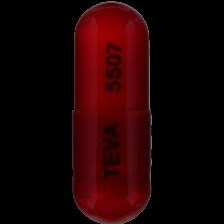42291-656: (0, 0, 224, 224)
